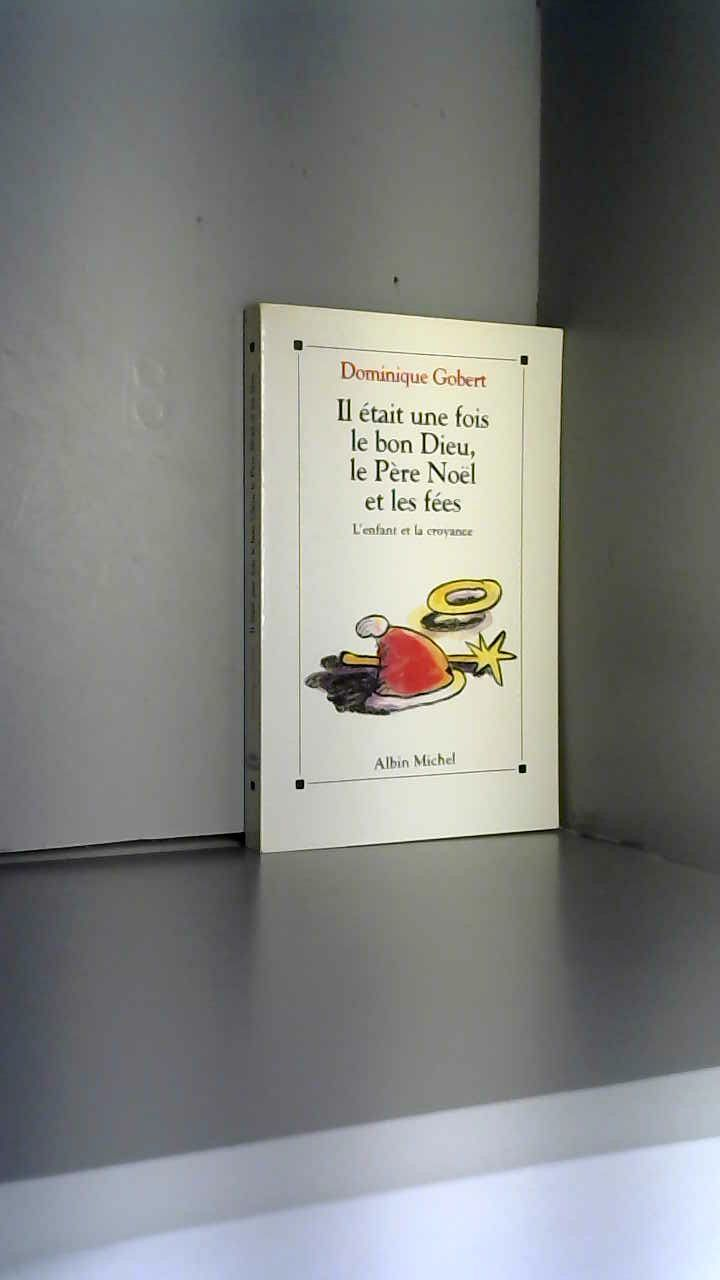book: (196, 259, 615, 898)
